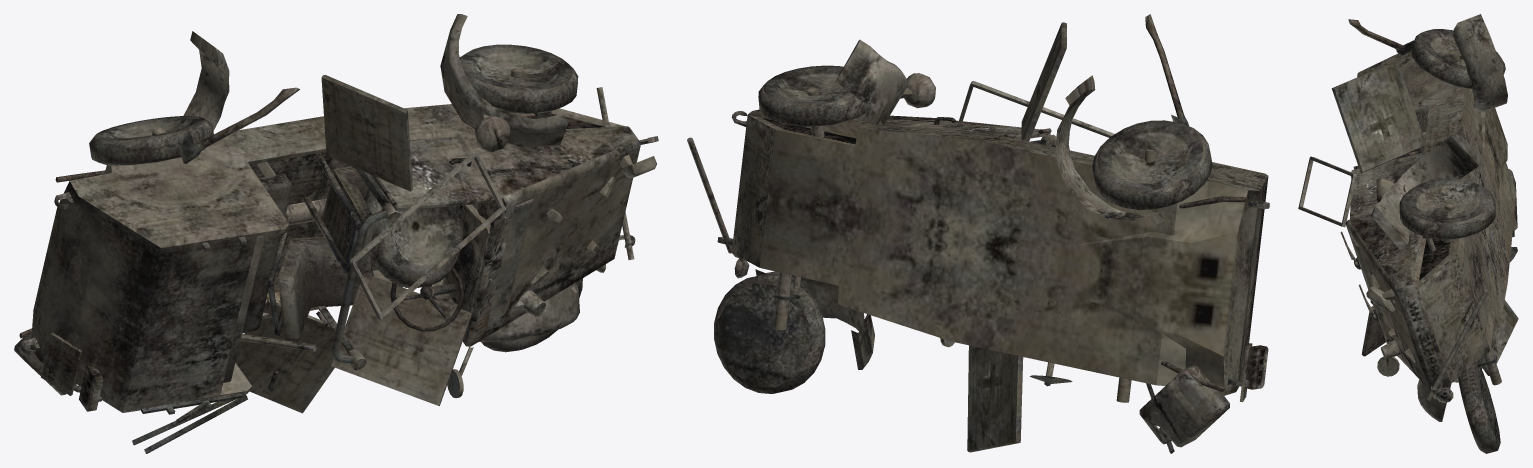
File: vehicle_german_kubel_d_static.glb
3 renders of one model, left to right at view 1: azimuth 30°, elevation 25°; view 2: azimuth 150°, elevation 25°; view 3: azimuth 270°, elevation 25°, orthographic. The views are drawn at different scales.
Size of the model in its own units: 153 by 104 by 64.73.
1 material, 1 textured.
